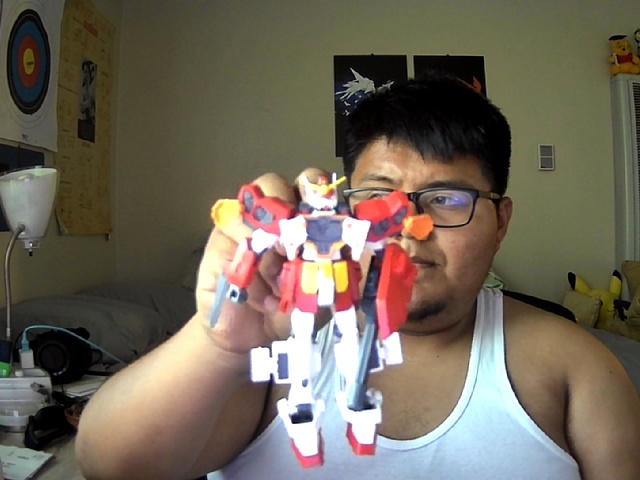Deatharms: (211, 175, 434, 472)
